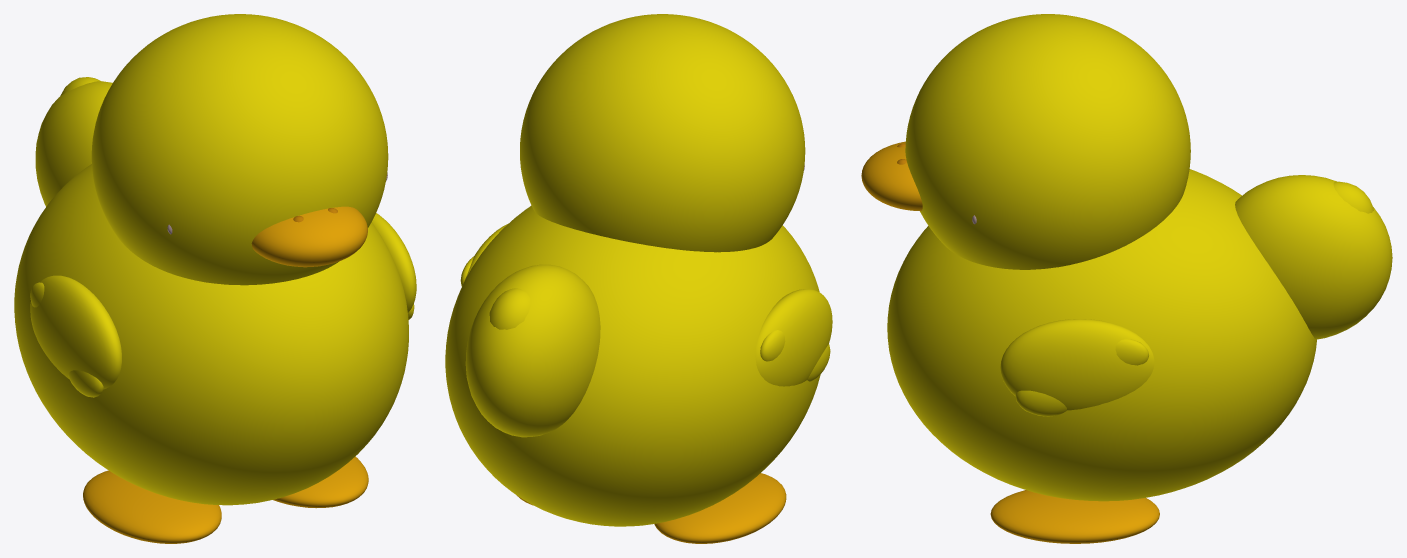
The model's file is Duck.glb.
3 views of the same model, side by side, from view 1: azimuth 30°, elevation 25°; view 2: azimuth 150°, elevation 25°; view 3: azimuth 270°, elevation 25° (orthographic). The views are drawn at different scales.
Visible parts, largest first — view 1: geometry_0; view 2: geometry_0; view 3: geometry_0.
Boxes of the visible parts, x1,y1,x2,y2 form: geometry_0: (14,14,416,543); geometry_0: (445,14,832,543); geometry_0: (861,14,1392,543).
Bounding box in the file's own units: 0.824 × 1.14 × 1.17.
